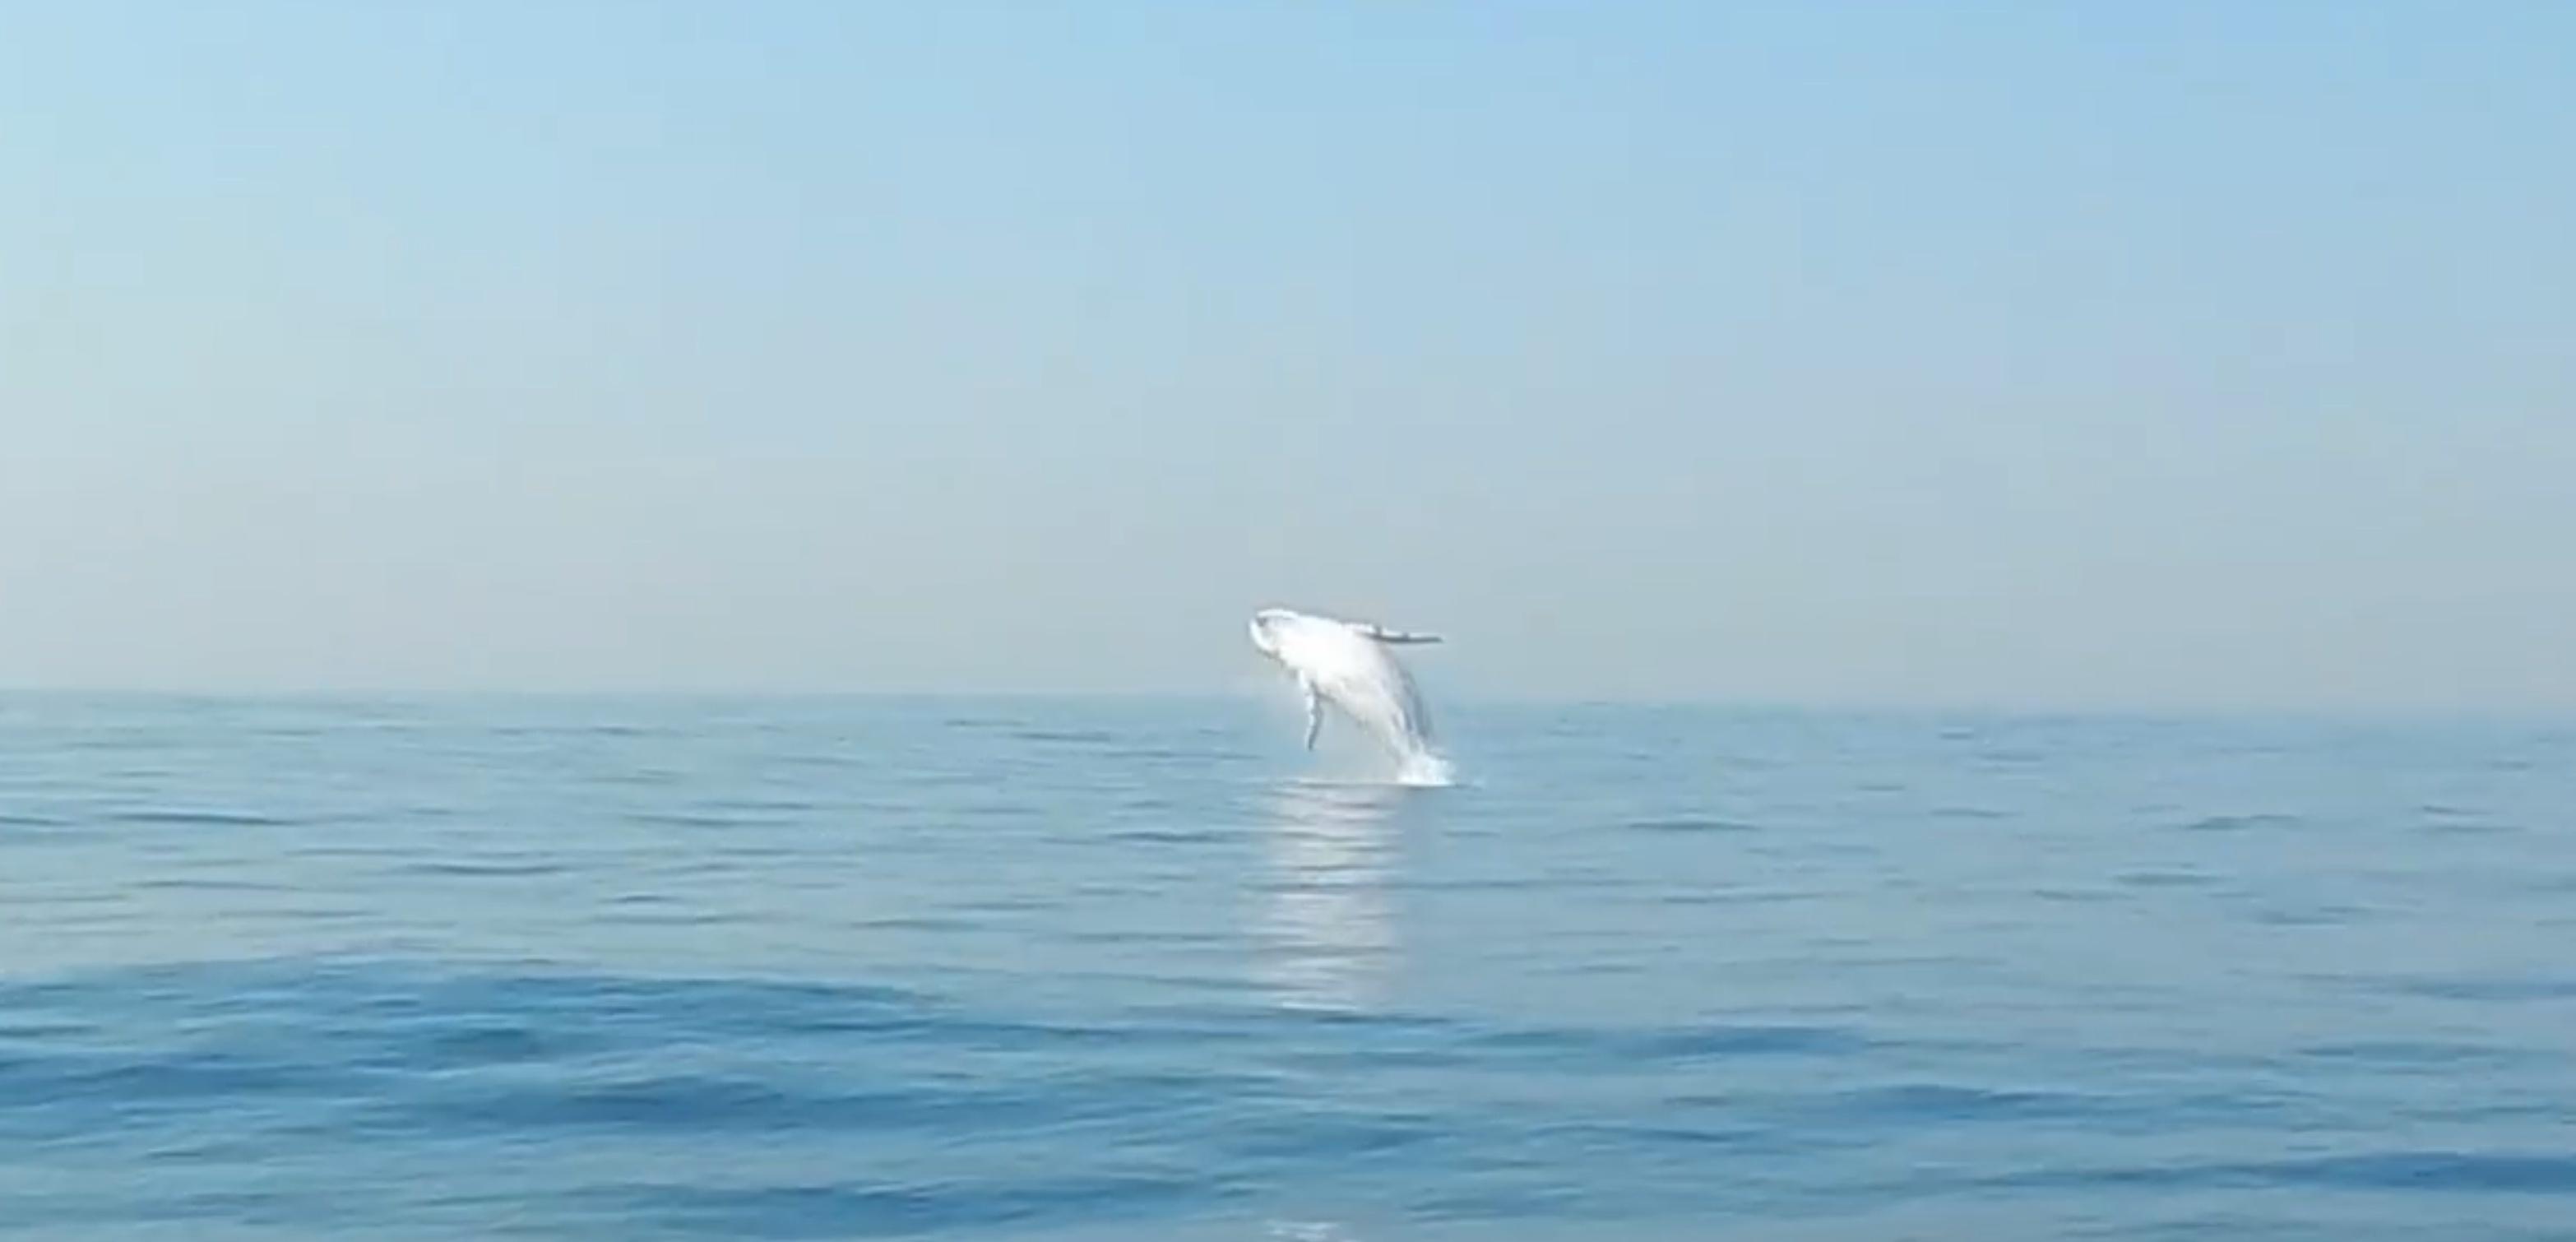humpback: (1247, 605, 1436, 756)
